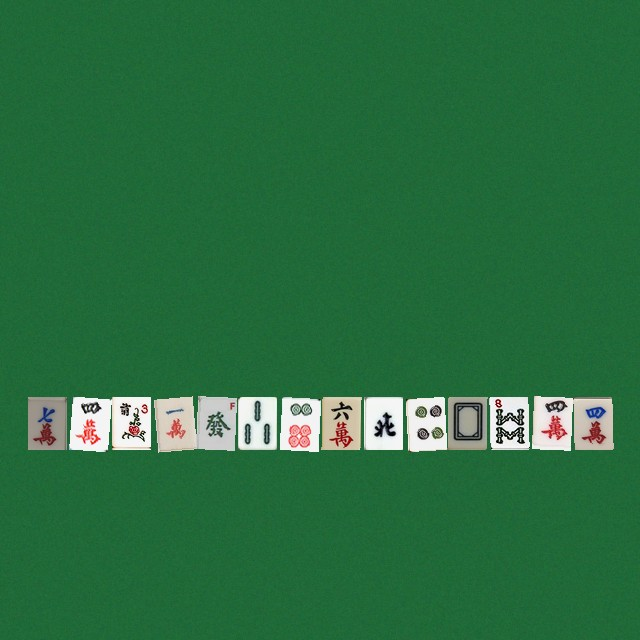tile: (27, 396, 66, 449), (69, 396, 108, 449), (111, 396, 150, 449), (153, 396, 192, 449), (195, 396, 234, 449), (237, 396, 276, 449), (279, 396, 318, 449), (321, 396, 360, 449), (363, 396, 402, 449), (405, 396, 444, 449), (447, 396, 486, 449), (489, 396, 528, 449), (531, 396, 570, 449), (573, 396, 612, 449)
